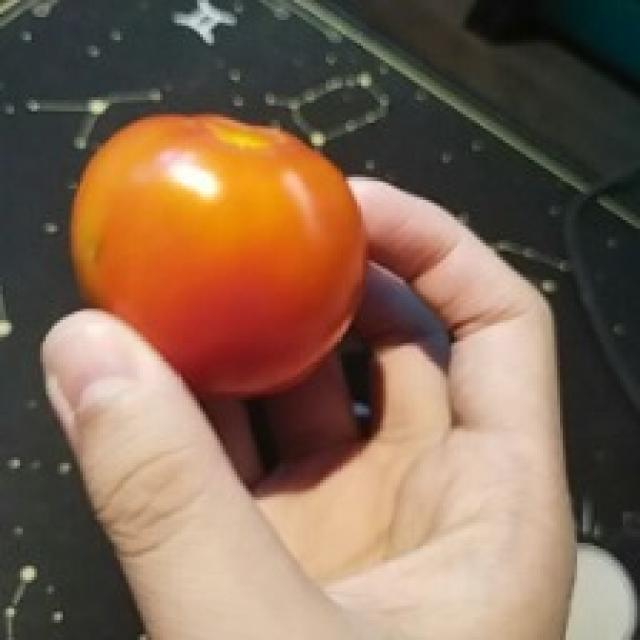Fresh Tomato: (45, 95, 373, 414)
